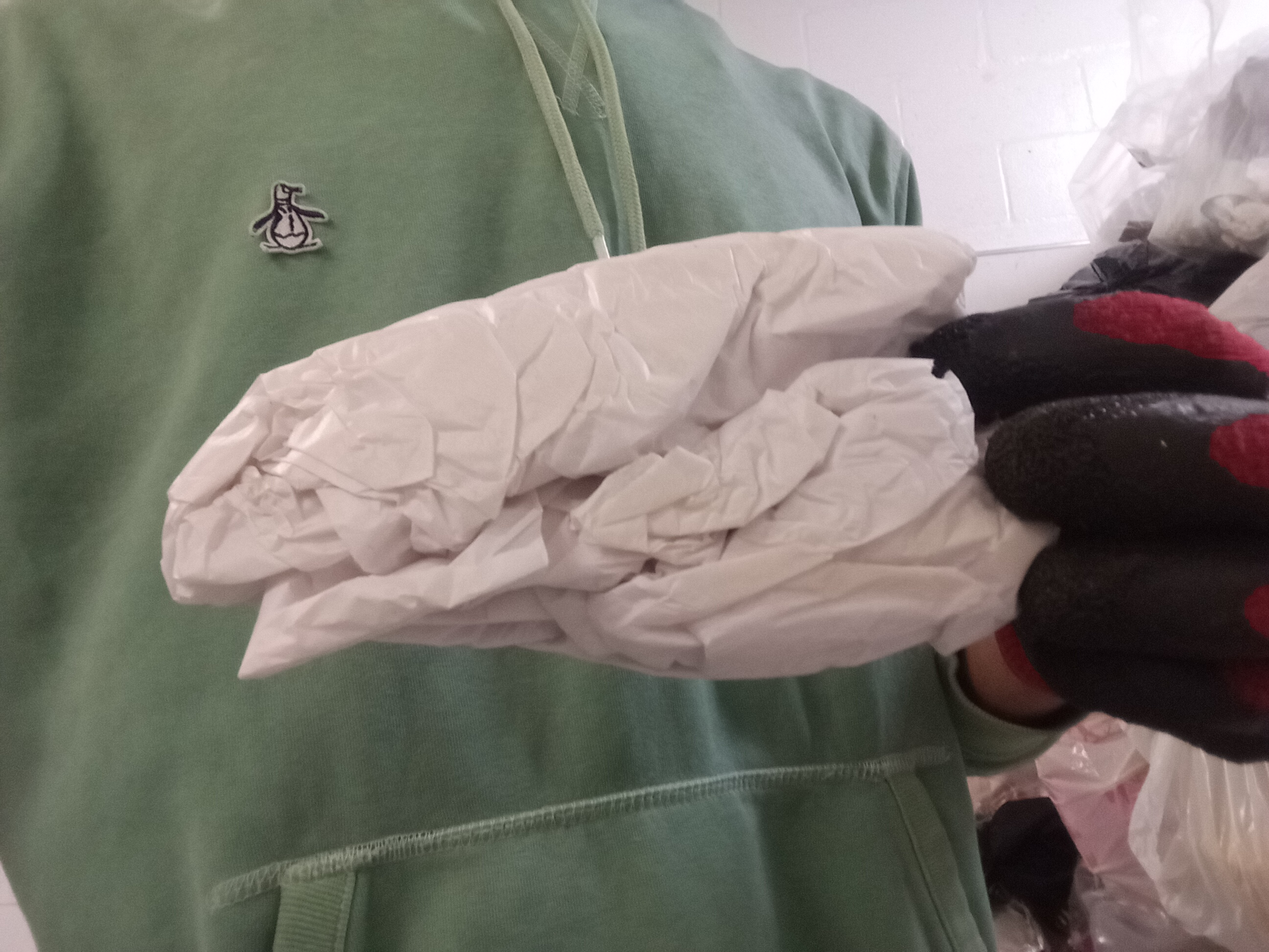Papel: (161, 226, 1059, 682), (162, 436, 185, 446)
